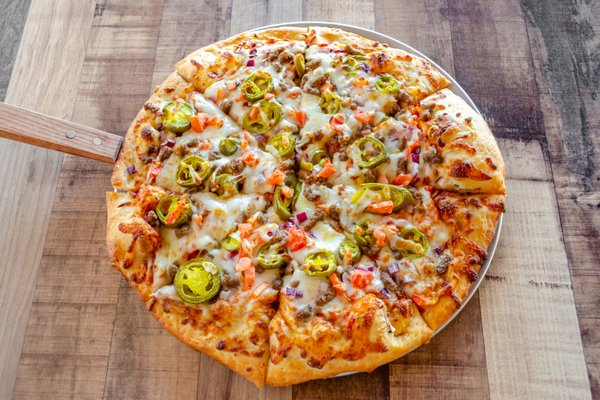curry: (2, 0, 581, 392)
sandwich: (106, 25, 510, 387)
